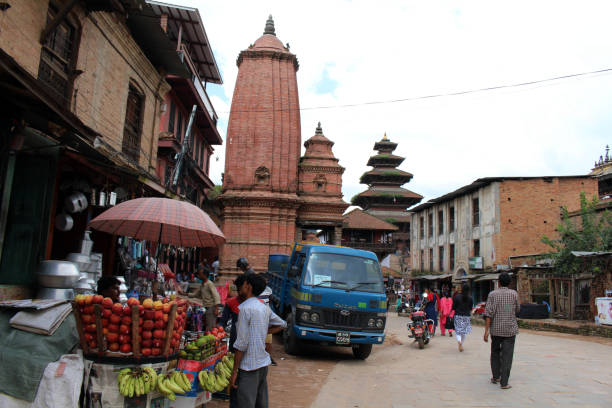nyathapola: (350, 126, 427, 239)
